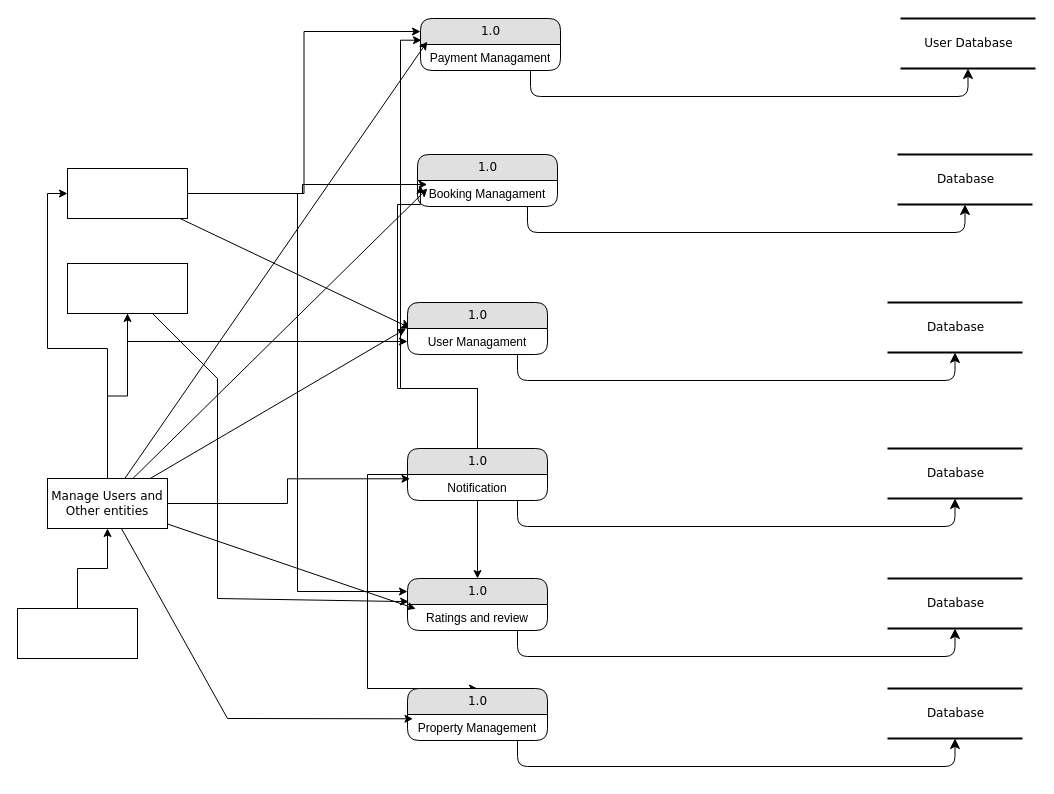
Some shapes in this 1054 by 794 pixel diagram are drawn without their labels. Here are the shapes that lost their labels. From the top down, the box of each, then its label:
(66, 168, 188, 218): GUEST
(66, 262, 188, 314): HOST
(16, 608, 138, 658): ADMIN
